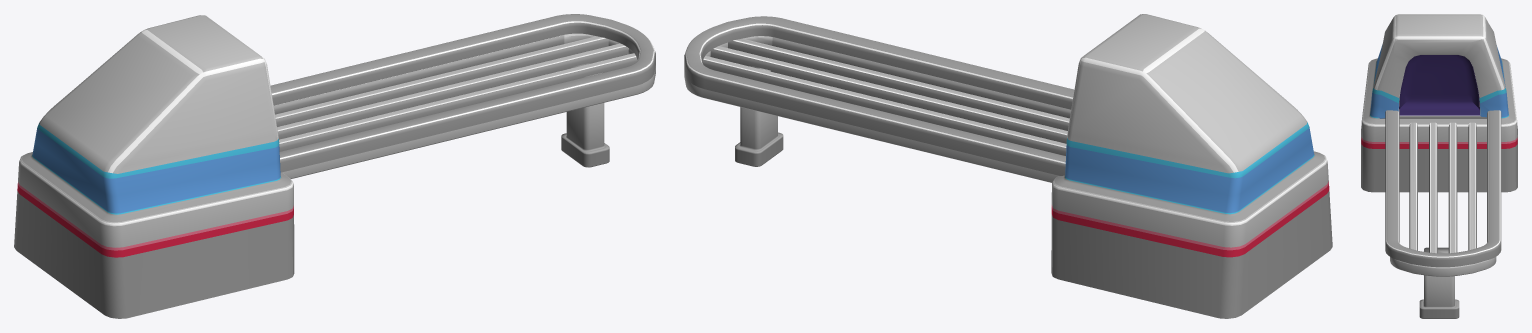
File: BowlingBallMachine.fbx
3 renders of one model, left to right at view 1: azimuth 30°, elevation 25°; view 2: azimuth 150°, elevation 25°; view 3: azimuth 270°, elevation 25°, orthographic. The views are drawn at different scales.
Parts seen in each view (by area): view 1: Cube, Plane, Plane.001, Cube.001; view 2: Cube, Plane, Plane.001, Cube.001; view 3: Cube, Plane, Plane.001, Cube.001.
Boxes of the visible parts, x1,y1,x2,y2 form: Cube: [14, 15, 294, 318]; Plane: [273, 33, 655, 178]; Plane.001: [270, 14, 655, 172]; Cube.001: [561, 63, 609, 167]; Cube: [1051, 14, 1332, 318]; Plane: [684, 36, 1071, 182]; Plane.001: [684, 16, 1074, 175]; Cube.001: [735, 65, 783, 166]; Cube: [1361, 14, 1517, 192]; Plane: [1390, 122, 1496, 276]; Plane.001: [1385, 109, 1501, 267]; Cube.001: [1419, 247, 1459, 318].
Size of the model in its own units: 901 by 303 by 283.
